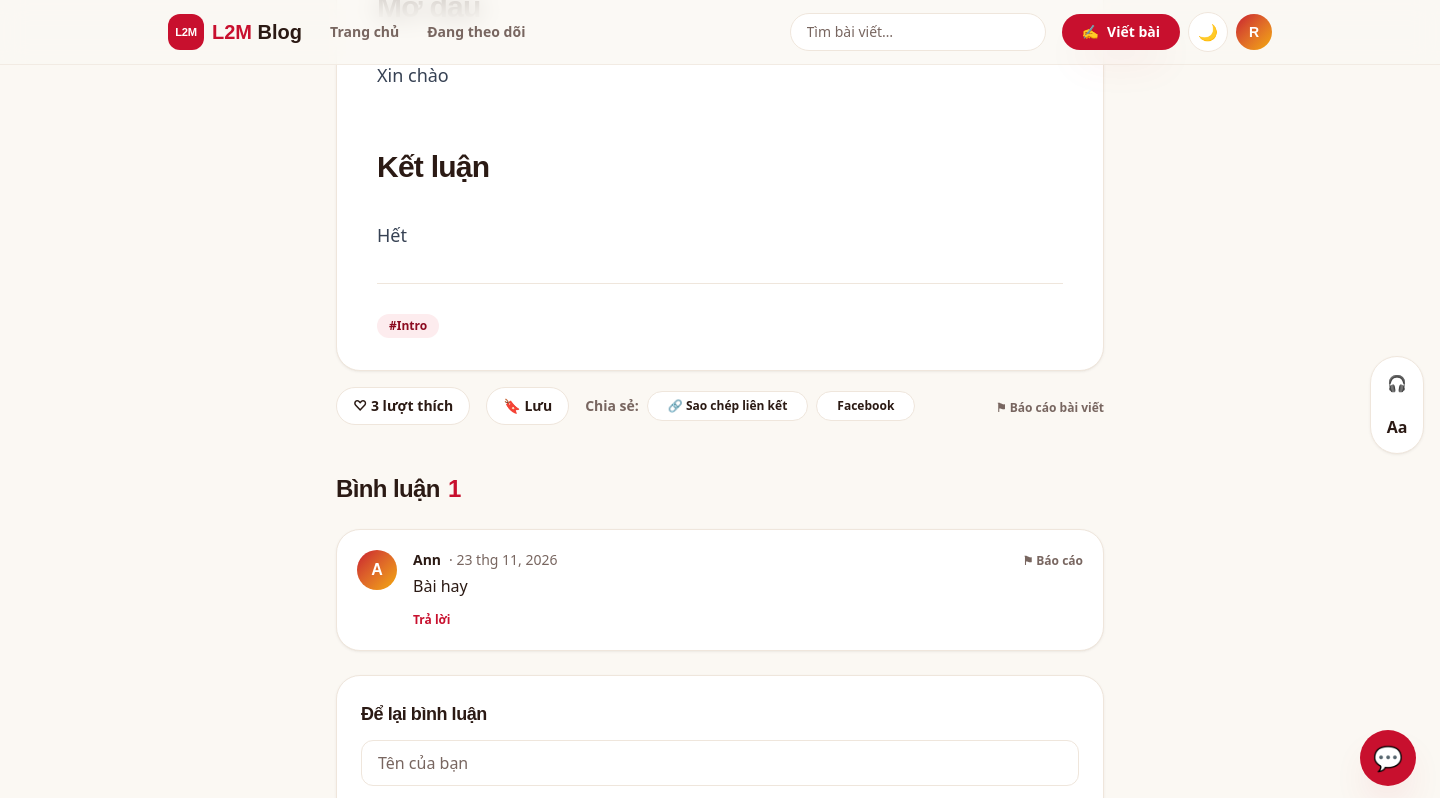
Test case: App › lets a member bookmark the post
(page scrolled)
Click the button "🔖 Lưu". click: [528, 406]
box: [486,387,569,425]
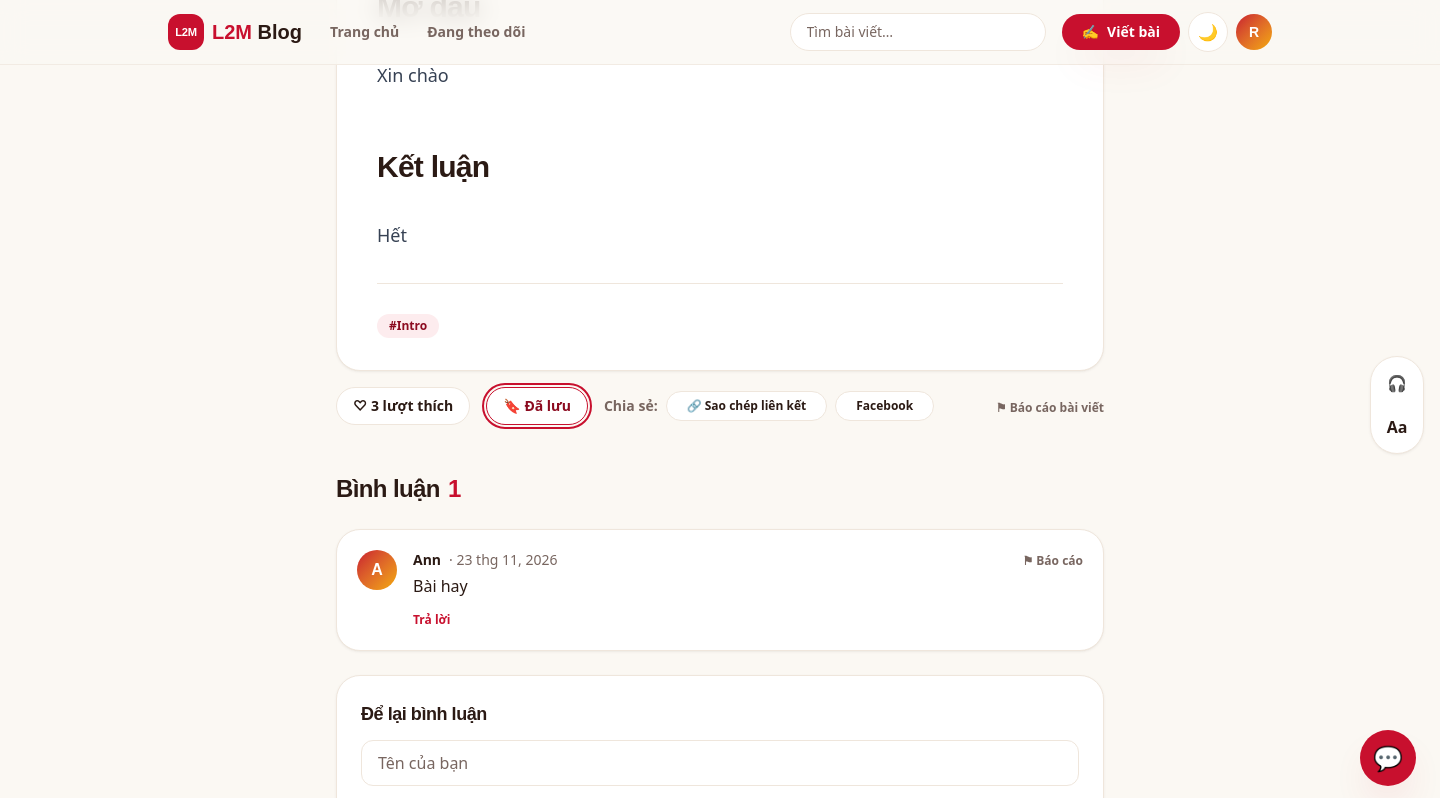
Expected: the button "🔖 Đã lưu" is pressed, [486,387,588,425]
